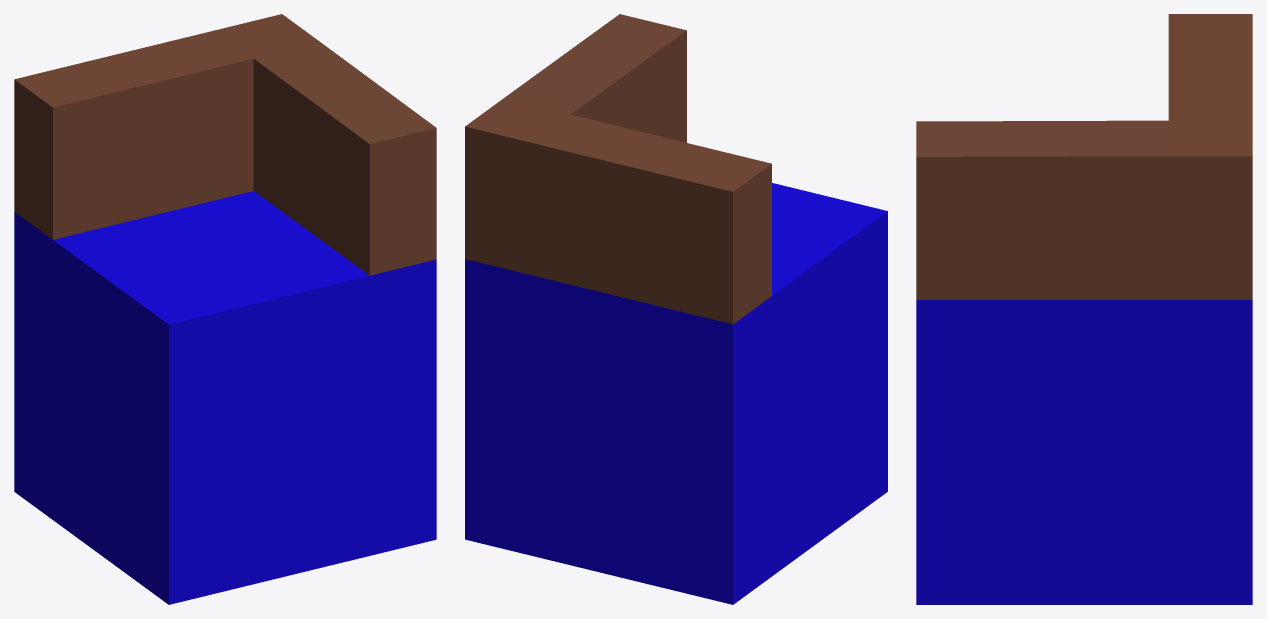
The model's file is Angle.fbx.
The picture shows the model from 3 angles, left to right: view 1: azimuth 30°, elevation 25°; view 2: azimuth 150°, elevation 25°; view 3: azimuth 270°, elevation 25°; orthographic projection. The views are drawn at different scales.
Parts seen in each view (by area): view 1: Cube.003; view 2: Cube.003; view 3: Cube.003.
Boxes of the visible parts, <box> form: Cube.003: <box>14,14,436,604</box>; Cube.003: <box>465,14,887,604</box>; Cube.003: <box>916,14,1252,604</box>.
Bounding box in the file's own units: 200 × 294 × 200.
